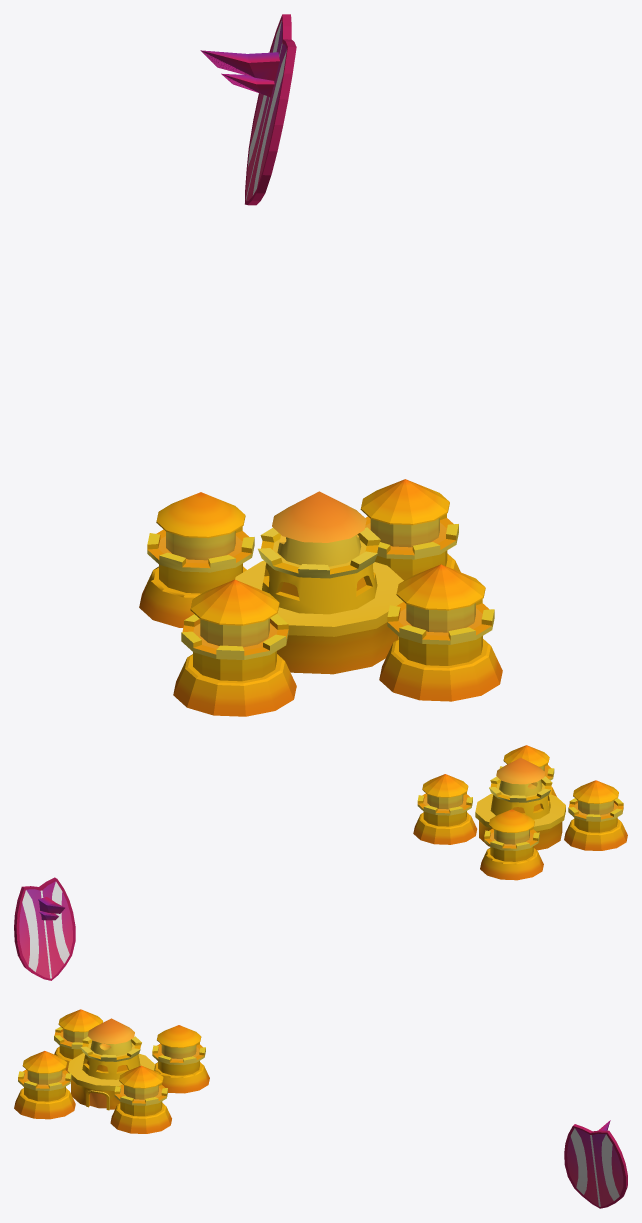
The model's file is PLAY_ARENA_LV1.FBX.
3 views of the same model, one above another, from view 1: azimuth 30°, elevation 25°; view 2: azimuth 150°, elevation 25°; view 3: azimuth 270°, elevation 25° (orthographic). The views are drawn at different scales.
Visible parts, largest first — view 1: LV_1; view 2: LV_1; view 3: LV_1.
Boxes of the visible parts, left/top/right/bottom form: LV_1: left=139, top=14, right=502, bottom=716; LV_1: left=14, top=745, right=627, bottom=980; LV_1: left=14, top=1009, right=627, bottom=1208.
Size of the model in its own units: 8.27 by 2.16 by 13.8.
Materials: 1 (1 with a texture image).
